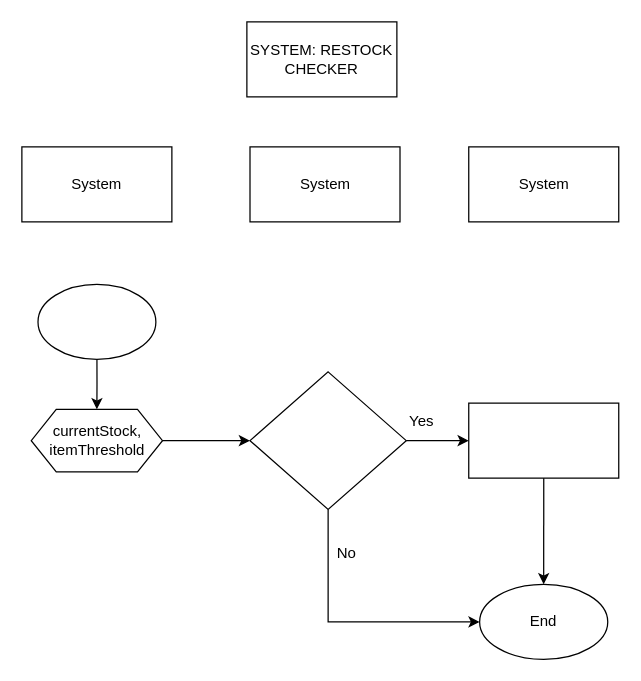
Image size: 641x681. Some labels were removed from this diagram. The centre of each missing label's shape, as x and y in pixels:
currentStock < itemThreshold?: [327,440]
Send Message "Restock soon": [543,440]
Start: [96,321]
